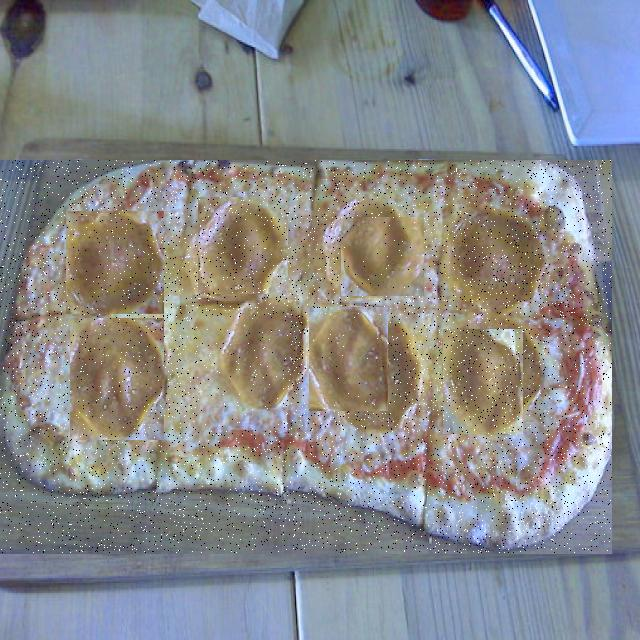Pepperoni: (70, 319, 164, 440), (66, 212, 164, 314), (198, 317, 283, 430), (198, 198, 288, 294), (443, 330, 523, 434), (309, 308, 388, 411), (459, 229, 545, 315), (341, 218, 424, 296)
Pizza: (0, 160, 612, 553)
